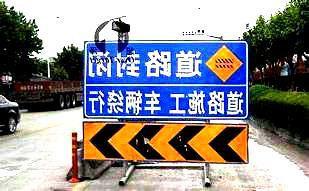sign: (84, 41, 248, 163)
